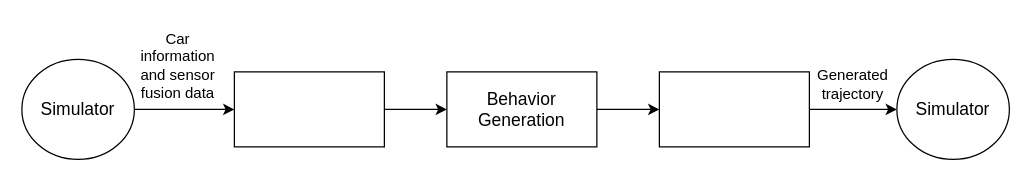
Image size: 1031x181. Some labels were removed from this diagram. Each missing label, with the centre of its shape:
Prediction: the point at 308,109
Trajectory Generation: the point at 733,109
